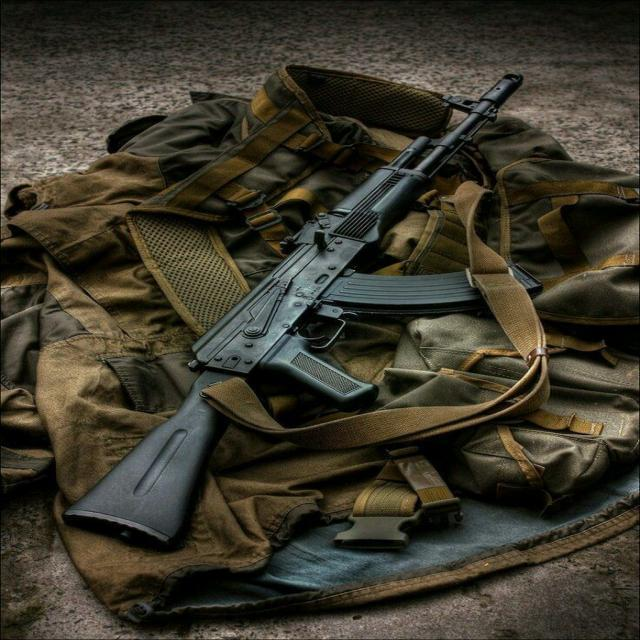weapon: (63, 71, 527, 552)
